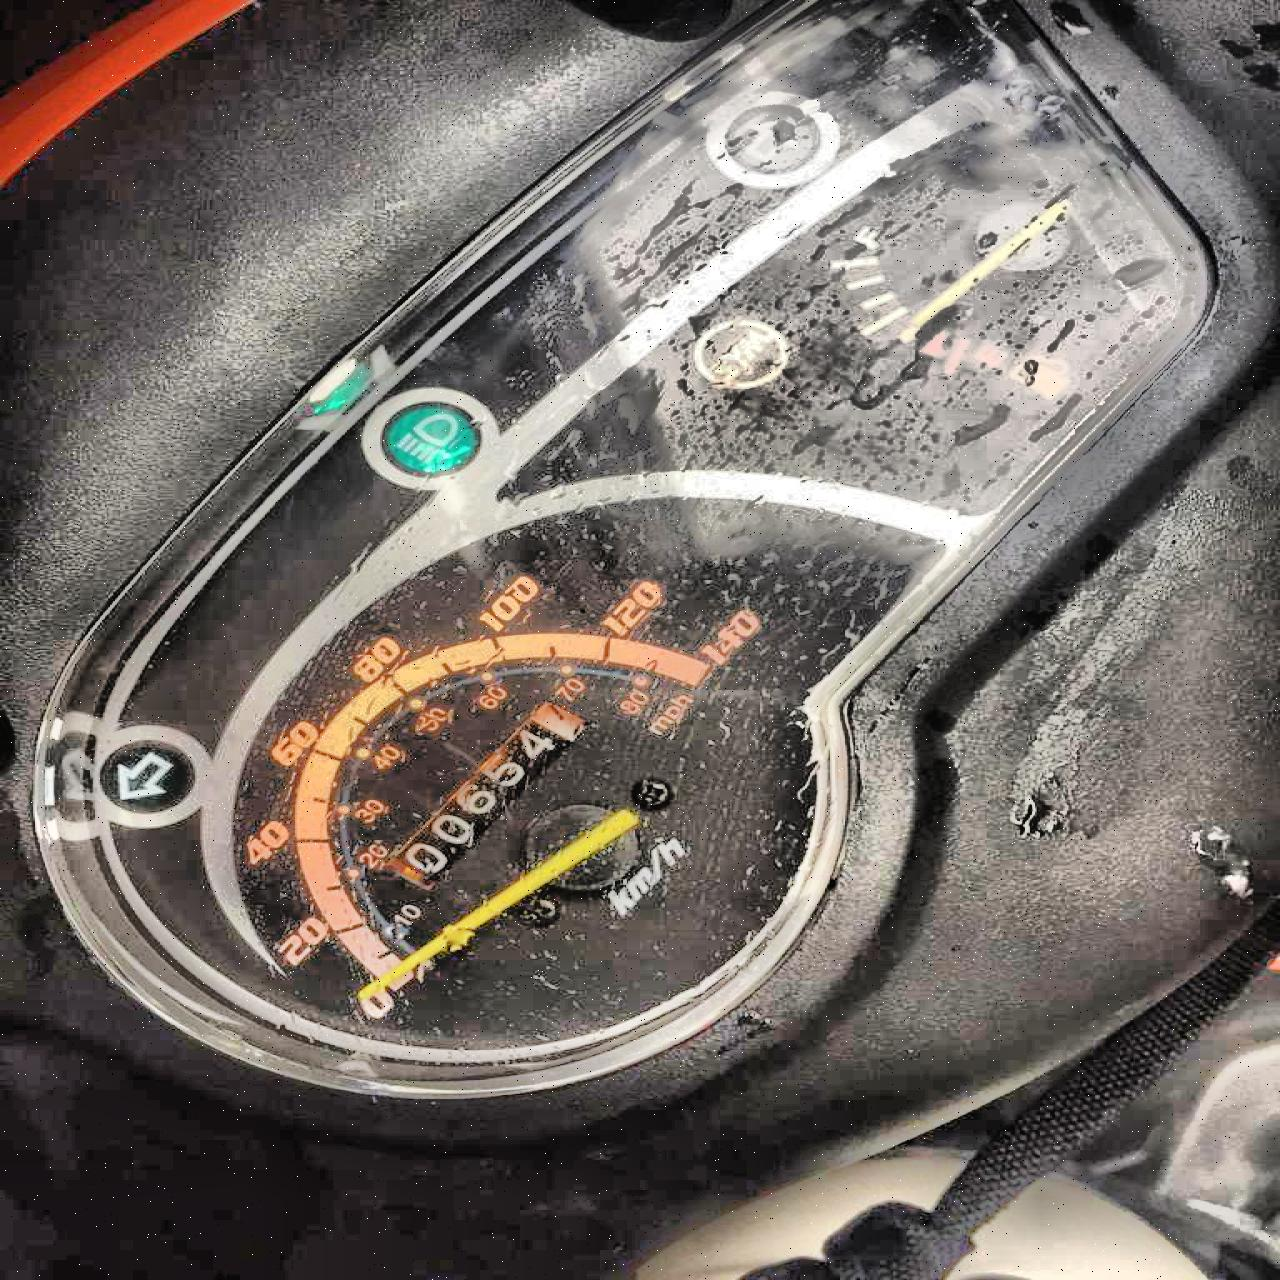0: (427, 813, 474, 845), (402, 842, 448, 873), (365, 797, 388, 812), (427, 706, 450, 720), (379, 743, 400, 758)
4: (513, 728, 558, 758), (373, 754, 392, 768)
5: (477, 751, 526, 785), (418, 715, 440, 734)
6: (454, 783, 495, 812), (475, 695, 498, 710)
7: (530, 699, 568, 723)
odometer: (369, 694, 608, 881)
